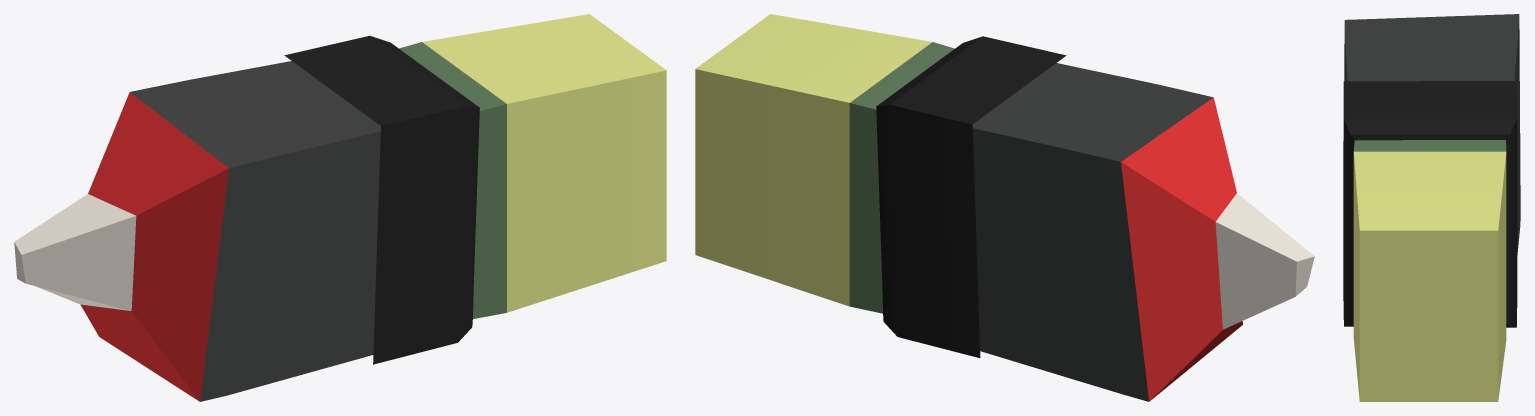
Rendered from WorkerZombieLeftForearm.glb.
3 views of the same model, side by side, from view 1: azimuth 30°, elevation 25°; view 2: azimuth 150°, elevation 25°; view 3: azimuth 270°, elevation 25° (orthographic). The views are drawn at different scales.
Visible parts, largest first — view 1: WorkerZombieLeftForearm; view 2: WorkerZombieLeftForearm; view 3: WorkerZombieLeftForearm.
Part boxes in pixels (box(x1,y1,x2,y2)): WorkerZombieLeftForearm: box(14, 14, 666, 401); WorkerZombieLeftForearm: box(695, 14, 1314, 401); WorkerZombieLeftForearm: box(1343, 14, 1520, 401).
Bounding box in the file's own units: 2.78 × 1.05 × 0.7906.
Materials: 1 (1 with a texture image).
